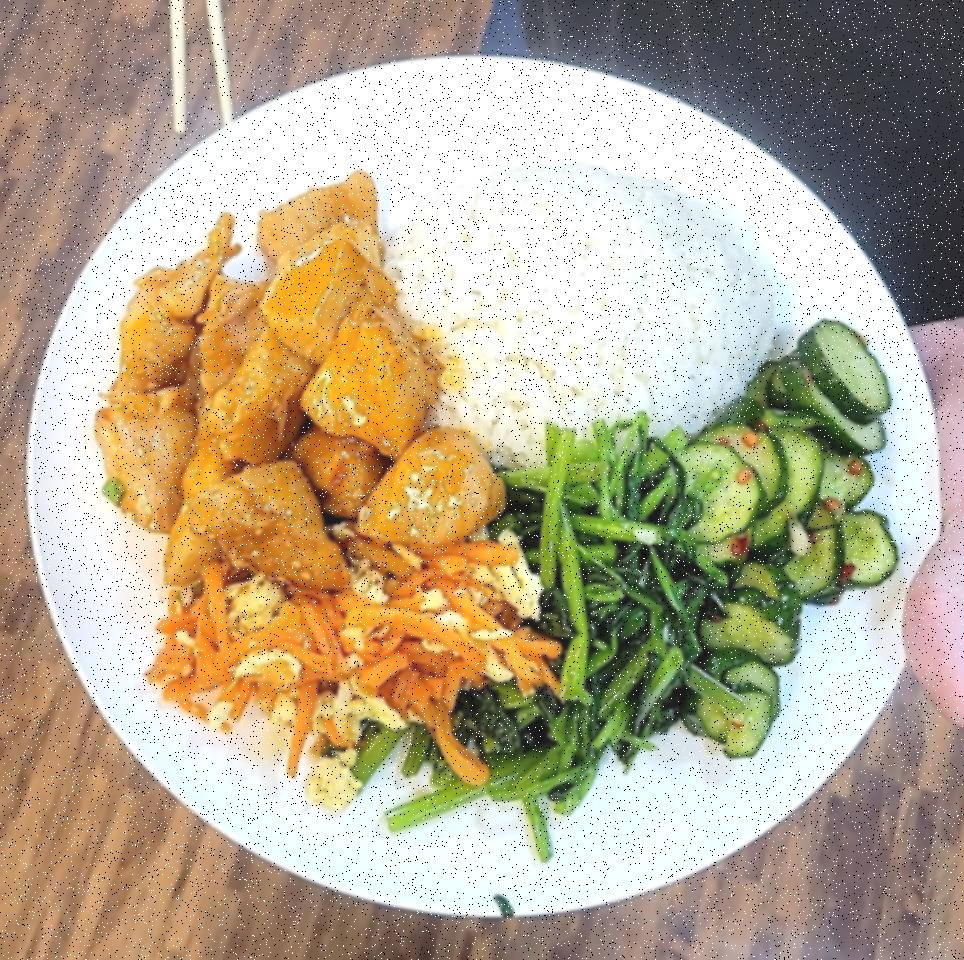big fried chicken leg: (15, 29, 956, 942)
big herbal chicken leg: (384, 158, 776, 486)
braised fish fillet: (452, 418, 704, 812), (692, 318, 900, 753), (168, 526, 532, 742)
braised pork: (102, 165, 495, 590)
